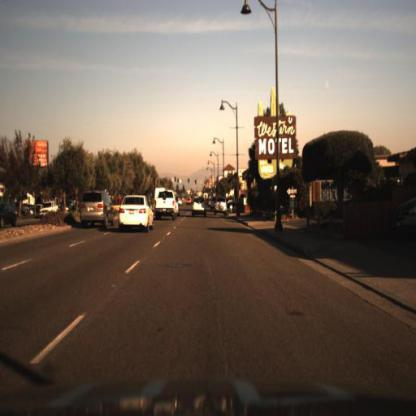car: (118, 191, 156, 233), (80, 189, 116, 229), (156, 187, 181, 223), (191, 197, 211, 221), (2, 203, 19, 228), (39, 200, 59, 220), (214, 198, 228, 218)
